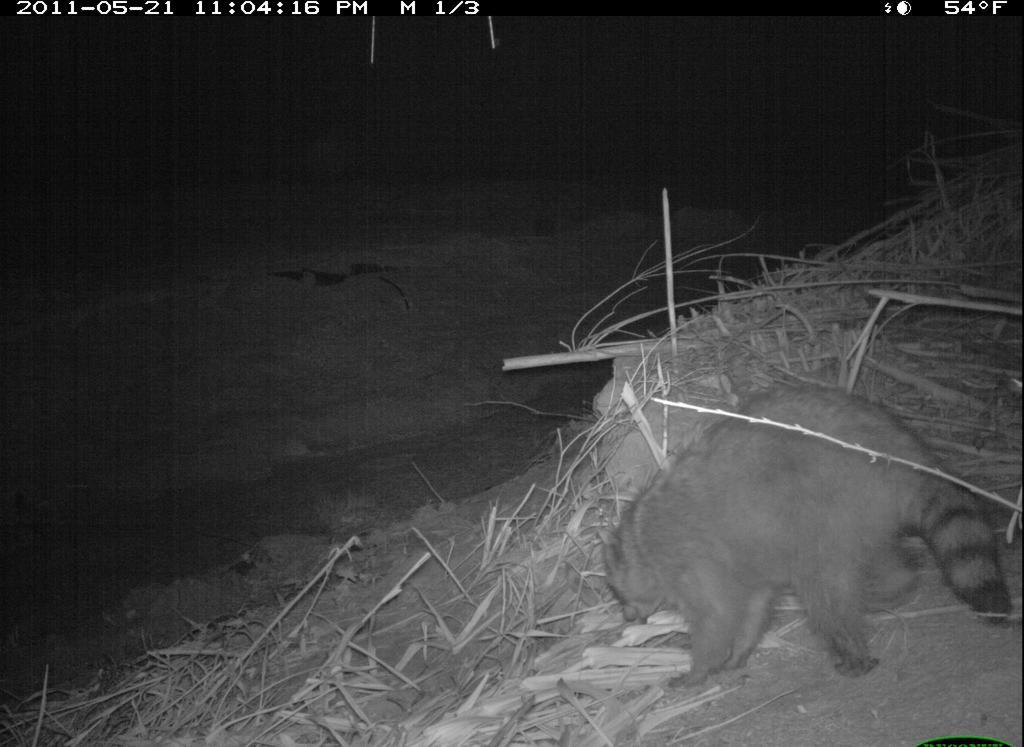raccoon: (603, 377, 1014, 713)
